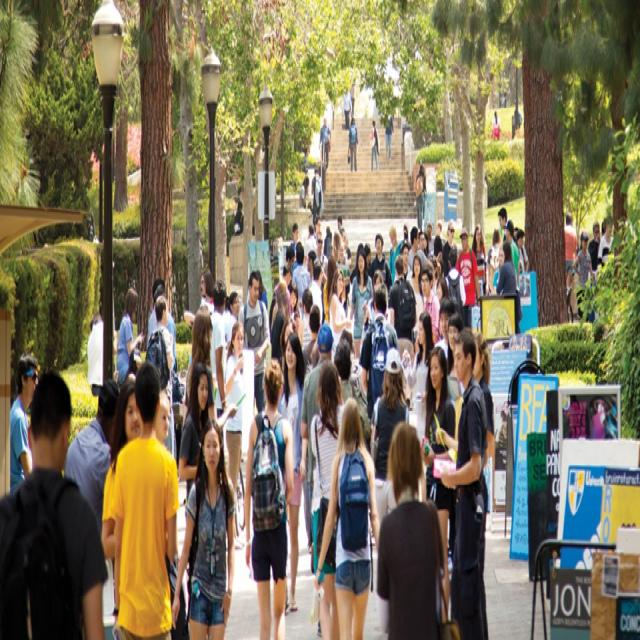body: (2, 358, 115, 638), (108, 362, 180, 638), (429, 330, 491, 639), (432, 332, 490, 638), (313, 392, 382, 640), (373, 418, 447, 640), (170, 415, 236, 639), (299, 322, 343, 638), (309, 357, 346, 639), (276, 330, 309, 616), (64, 377, 121, 540), (424, 347, 457, 622), (100, 377, 143, 560), (370, 347, 410, 525), (402, 308, 436, 501), (360, 284, 400, 426), (224, 319, 246, 553), (177, 358, 210, 511), (146, 294, 175, 460), (238, 269, 271, 414), (10, 353, 40, 499), (333, 337, 371, 438), (3, 495, 30, 637), (85, 308, 123, 406), (183, 309, 215, 425), (116, 286, 147, 388), (358, 266, 391, 358), (208, 276, 228, 421), (496, 240, 522, 350), (455, 228, 481, 332), (445, 312, 470, 412), (329, 267, 352, 364), (348, 248, 371, 344), (572, 229, 593, 326), (338, 326, 366, 398), (418, 260, 441, 346), (270, 277, 291, 370), (152, 282, 177, 357), (443, 243, 467, 312), (433, 294, 456, 364), (409, 252, 425, 346), (501, 218, 521, 293), (301, 302, 322, 371), (471, 224, 490, 298), (368, 230, 392, 288), (297, 288, 315, 362), (322, 252, 339, 326), (563, 210, 578, 293), (273, 260, 293, 320), (413, 160, 429, 233), (336, 242, 351, 318), (292, 243, 311, 303), (147, 276, 166, 334), (597, 213, 615, 274), (309, 256, 324, 327), (441, 218, 459, 277), (278, 317, 296, 373), (152, 391, 170, 445), (388, 225, 403, 287), (312, 229, 328, 286), (225, 290, 240, 349), (311, 165, 324, 233), (512, 226, 530, 273), (406, 226, 424, 272), (346, 114, 360, 173), (394, 240, 413, 283), (587, 219, 602, 272), (318, 116, 332, 170), (368, 116, 381, 174), (282, 246, 297, 294), (286, 279, 302, 323), (343, 230, 352, 308), (493, 243, 506, 296), (416, 229, 432, 272), (304, 223, 318, 272), (200, 272, 215, 316), (383, 105, 394, 162), (487, 228, 502, 268), (310, 215, 325, 253), (255, 267, 268, 310), (432, 234, 444, 278), (306, 248, 318, 290), (430, 252, 442, 294), (233, 199, 245, 236), (342, 86, 352, 130), (497, 204, 508, 244), (298, 175, 310, 210), (426, 220, 436, 262), (363, 240, 374, 278), (290, 222, 300, 263), (332, 230, 344, 264), (322, 225, 332, 259), (349, 77, 357, 118), (433, 220, 447, 243), (514, 100, 524, 130), (401, 223, 412, 250), (501, 85, 508, 121), (292, 303, 302, 324), (337, 214, 346, 234), (209, 322, 215, 348), (303, 146, 310, 168), (492, 110, 501, 126), (293, 244, 297, 268), (512, 220, 517, 238), (355, 242, 363, 253)
